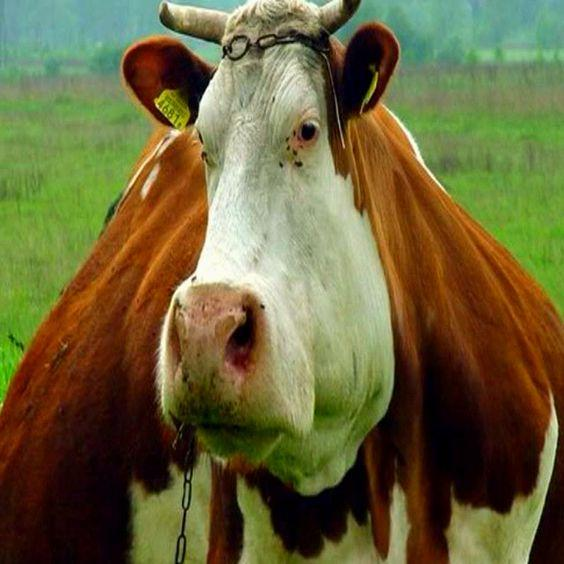cow: (62, 8, 423, 445)
